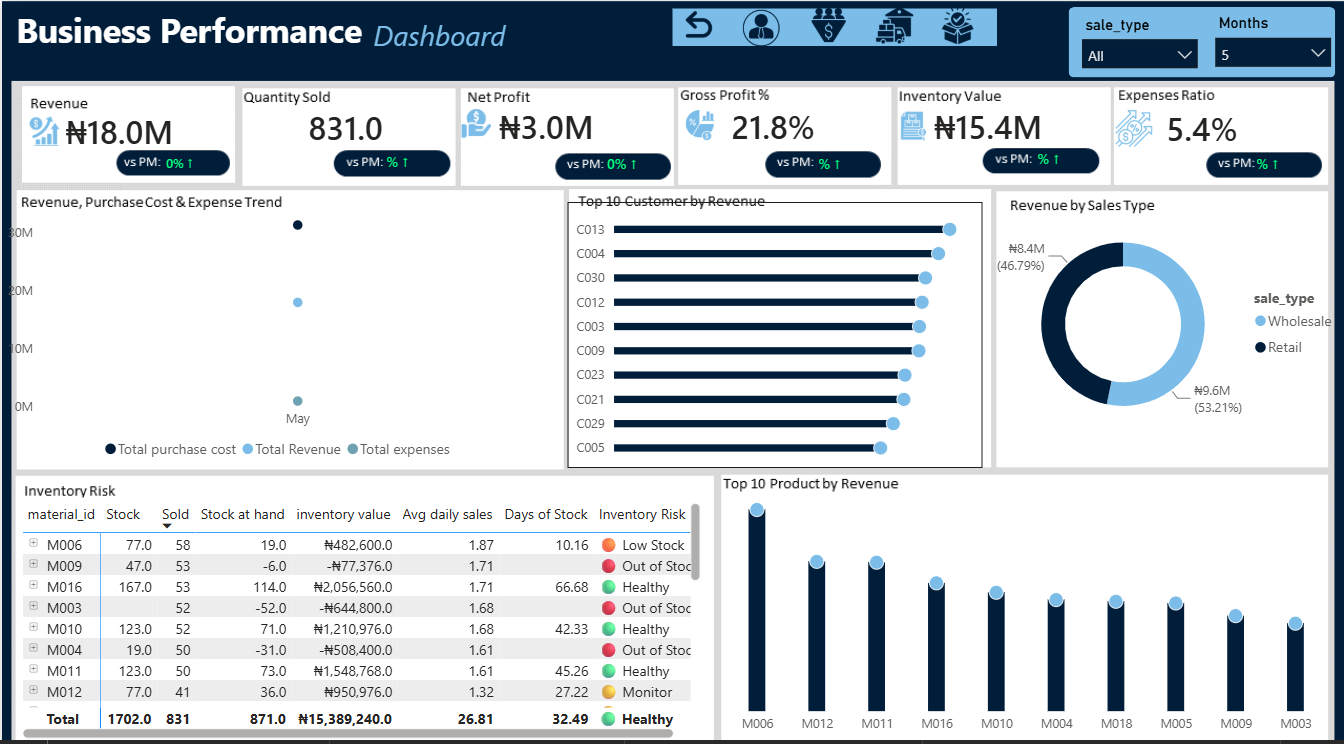

This screenshot's page, from the dashboard's own definition file:
{"tool":"powerbi","page":{"name":"Executive_dashboard (MOM)","canvas":[1280,720],"ordinal":1},"visuals":[{"type":"lineChart","fields":{"Y":["Measure.Total purchase cost","Measure.Total Revenue","Measure.Total expenses"],"Category":["Date.Date.Variation.Date Hierarchy.Month"]},"box":[0,177.9,528.6,266.8],"z":0},{"type":"donutChart","fields":{"Category":["sales_update.sale_type"],"Y":["Measure.Total Revenue"]},"box":[936.7,170,343.3,275],"z":1000},{"type":"barChart","fields":{"Category":["customers.customer_id"],"Y":["Measure.Total Revenue"]},"box":[538.4,191.9,395.3,252.1],"z":2000},{"type":"columnChart","fields":{"Category":["materials_corrected.material_id"],"Y":["Measure.Total Revenue"]},"box":[683.1,457.1,585.6,248.9],"z":3000},{"type":"cardVisual","fields":{"Data":["Measure.Total Revenue"]},"box":[30.9,87.8,187.1,71.6],"z":4000},{"type":"cardVisual","fields":{"Data":["Measure.Net Profit"]},"box":[444,76.4,165.9,81.3],"z":5000},{"type":"cardVisual","fields":{"Data":["Measure.Gross profit margin"]},"box":[665.3,76.4,170.8,81.3],"z":6000},{"type":"cardVisual","fields":{"Data":["Measure.Inventory Value 2"]},"box":[858.8,76.4,190.3,83],"z":7000},{"type":"cardVisual","fields":{"Data":["Measure.Expenses ratio"]},"box":[1080,81.3,148,76.4],"z":8000},{"type":"image","box":[26.3,110.4,29.8,28],"z":9000},{"type":"image","box":[426.2,102.5,52,27.7],"z":10000},{"type":"image","box":[649,102.5,32.5,30.9],"z":11000},{"type":"image","box":[850.7,104.1,35.8,30.9],"z":12000},{"type":"image","box":[1060.5,102.5,35.8,37.4],"z":13000},{"type":"cardVisual","fields":{"Data":["Measure.Profit growth arrow month"]},"box":[546.5,118.7,120.4,69.9],"z":14000},{"type":"cardVisual","fields":{"Data":["Measure.Gross profit growth arrow month"]},"box":[748.3,125,110,55],"z":15000},{"type":"cardVisual","fields":{"Data":["Measure.Inventory growth arrow MOM"]},"box":[956.7,113.3,120,71.7],"z":16000},{"type":"cardVisual","fields":{"Data":["Measure.Expense ratio growth arrow MOM"]},"box":[1166.1,125.2,113.9,55.3],"z":17000},{"type":"cardVisual","fields":{"Data":["Measure.Revenue growth arrow month"]},"box":[126.9,128.5,148,48.8],"z":18000},{"type":"pivotTable","fields":{"Rows":["materials_corrected.material_id","materials_corrected.size","materials_corrected.manufacturer"],"Values":["Measure.Inventory purchased","Measure.inventory sold","Measure.Stock at hand","Measure.inventory value","Measure.Avg daily sales","Measure.Days of Stock","Measure.Inventory Risk"]},"box":[14.6,473.3,655.5,234.2],"z":19000},{"type":"textbox","box":[8.1,0,422.9,76.4],"z":20000},{"type":"textbox","box":[348.3,8.3,165.9,68.3],"z":21000},{"type":"shape","box":[1015.7,5.7,254.3,67.1],"z":22000},{"type":"slicer","fields":{"Values":["sales_update.sale_type"]},"box":[1018.2,8.1,130.1,66.7],"z":23000},{"type":"shape","box":[639.2,6.5,309,35.8],"z":24000},{"type":"image","box":[686.4,6.5,74.8,37.4],"z":25000},{"type":"image","box":[749.8,4.9,74.8,37.4],"z":26000},{"type":"image","box":[813.3,4.9,74.8,37.4],"z":27000},{"type":"image","box":[873.5,4.9,74.8,37.4],"z":28000},{"type":"image","box":[621.3,4.9,84.6,35.8],"z":29000},{"type":"slicer","fields":{"Values":["Date.Month Number"]},"box":[1145.1,6.5,130.1,66.7],"z":30000},{"type":"cardVisual","fields":{"Data":["Measure.Quantity sold"]},"box":[263.5,78.1,165.9,81.3],"z":31000},{"type":"cardVisual","fields":{"Data":["Measure.Quantity sold growth arrow month"]},"box":[336.6,116,118.9,70.2],"z":32000}]}

Visuals, with their boxes in screenshot pixels (x1, y1, x2, y2), scaled from the page's 1280x720 canvas onto the 1344x744 screenshot:
lineChart - Measure.Total purchase cost x Measure.Total Revenue: 0,184,555,460
donutChart - sales_update.sale_type x Measure.Total Revenue: 984,176,1343,460
barChart - customers.customer_id x Measure.Total Revenue: 565,198,980,459
columnChart - materials_corrected.material_id x Measure.Total Revenue: 717,472,1332,730
cardVisual - Measure.Total Revenue: 32,91,229,165
cardVisual - Measure.Net Profit: 466,79,640,163
cardVisual - Measure.Gross profit margin: 699,79,878,163
cardVisual - Measure.Inventory Value 2: 902,79,1102,165
cardVisual - Measure.Expenses ratio: 1134,84,1289,163
image: 28,114,59,143
image: 448,106,502,135
image: 681,106,716,138
image: 893,108,931,140
image: 1114,106,1151,145
cardVisual - Measure.Profit growth arrow month: 574,123,700,195
cardVisual - Measure.Gross profit growth arrow month: 786,129,901,186
cardVisual - Measure.Inventory growth arrow MOM: 1005,117,1131,191
cardVisual - Measure.Expense ratio growth arrow MOM: 1224,129,1343,187
cardVisual - Measure.Revenue growth arrow month: 133,133,289,183
pivotTable - materials_corrected.material_id x materials_corrected.size: 15,489,704,731
textbox: 9,0,453,79
textbox: 366,9,540,79
shape: 1066,6,1334,75
slicer - sales_update.sale_type: 1069,8,1206,77
shape: 671,7,996,44
image: 721,7,799,45
image: 787,5,866,44
image: 854,5,933,44
image: 917,5,996,44
image: 652,5,741,42
slicer - Date.Month Number: 1202,7,1339,76
cardVisual - Measure.Quantity sold: 277,81,451,165
cardVisual - Measure.Quantity sold growth arrow month: 353,120,478,192
